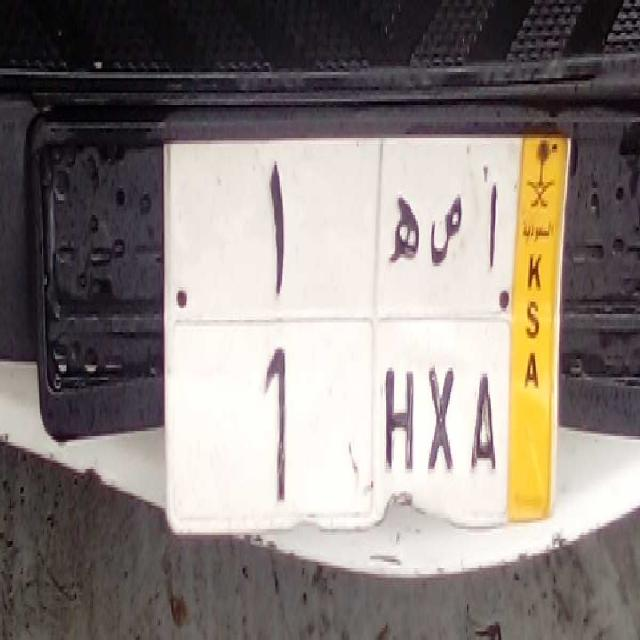license_plate: (163, 320, 510, 529)
